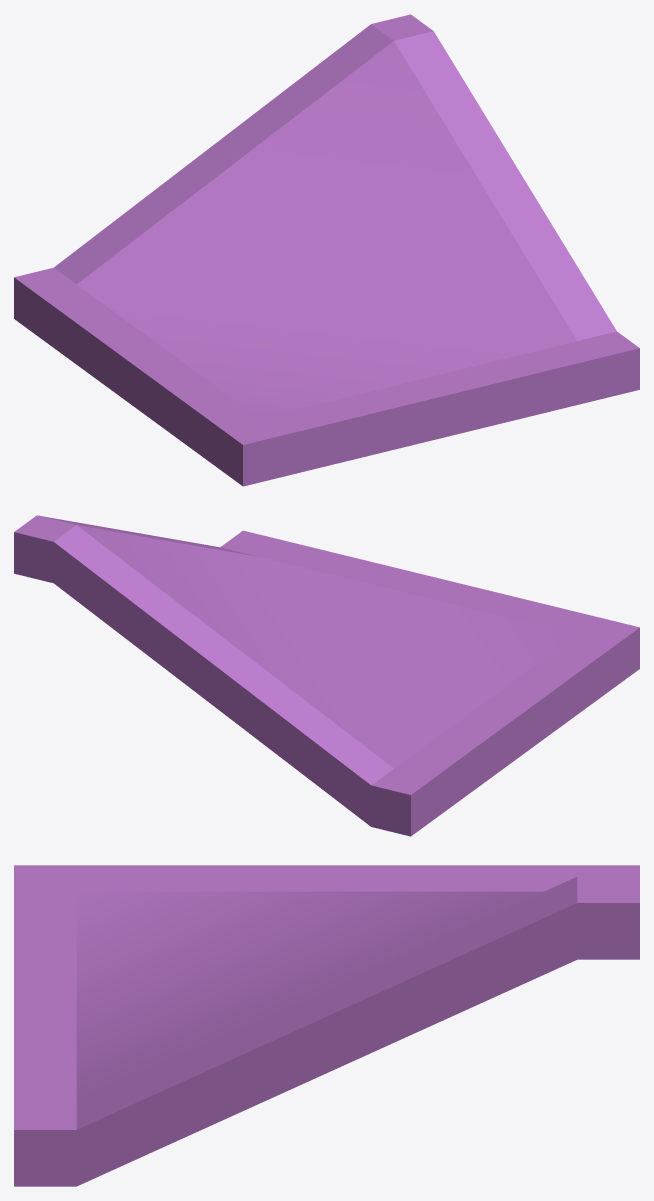
Rendered from Platform_Corner.fbx.
The picture shows the model from 3 angles, top to bottom: view 1: azimuth 30°, elevation 25°; view 2: azimuth 150°, elevation 25°; view 3: azimuth 270°, elevation 25°; orthographic projection. The views are drawn at different scales.
Parts seen in each view (by area): view 1: Platform_Corner; view 2: Platform_Corner; view 3: Platform_Corner.
Part boxes in pixels (x1,y1,x2,y2): Platform_Corner: [14, 14, 639, 486]; Platform_Corner: [14, 515, 639, 836]; Platform_Corner: [14, 865, 639, 1186].
Size of the model in its own units: 1000 by 500 by 1000.
